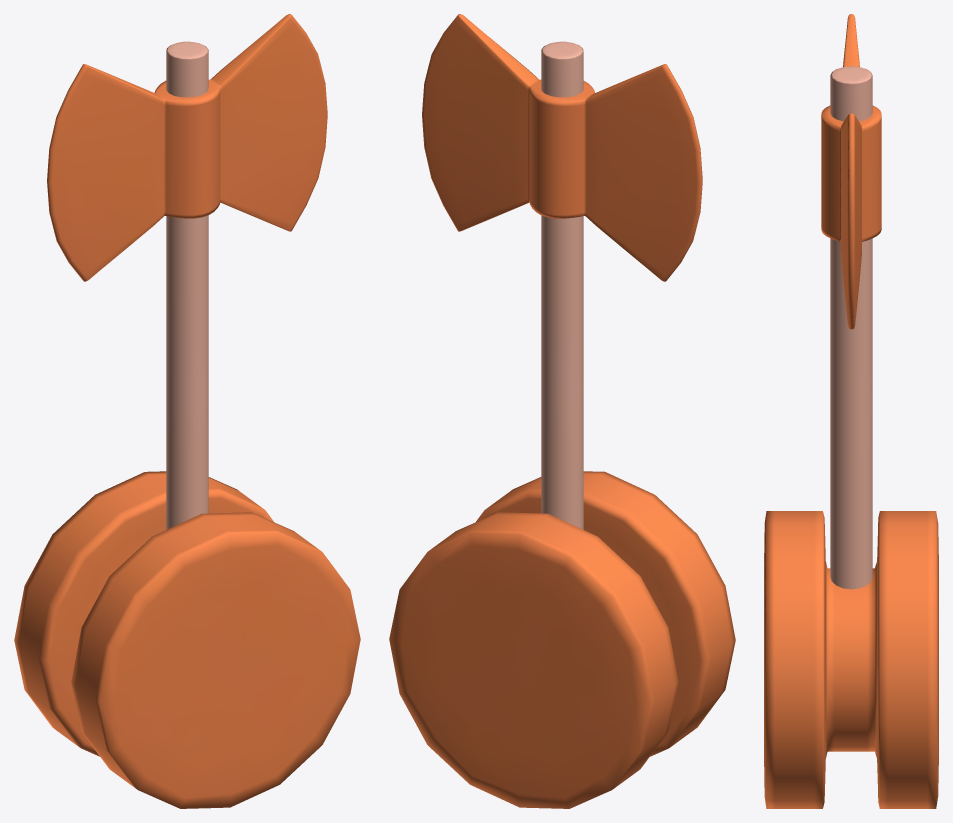
The model's file is AxeMachine.fbx.
3 views of the same model, side by side, from view 1: azimuth 30°, elevation 25°; view 2: azimuth 150°, elevation 25°; view 3: azimuth 270°, elevation 25° (orthographic).
Parts seen in each view (by area): view 1: AxeMechanism, polySurface2, polySurface1; view 2: AxeMechanism, polySurface2, polySurface1; view 3: AxeMechanism, polySurface1, polySurface2.
Part boxes in pixels (<box>): AxeMechanism: <box>14,471,360,808</box>; polySurface2: <box>47,14,327,281</box>; polySurface1: <box>166,41,208,529</box>; AxeMechanism: <box>389,471,735,808</box>; polySurface2: <box>422,14,702,281</box>; polySurface1: <box>541,41,583,529</box>; AxeMechanism: <box>764,511,938,808</box>; polySurface1: <box>830,66,872,589</box>; polySurface2: <box>821,14,881,329</box>.
Size of the model in its own units: 67.54 by 170 by 36.78.
